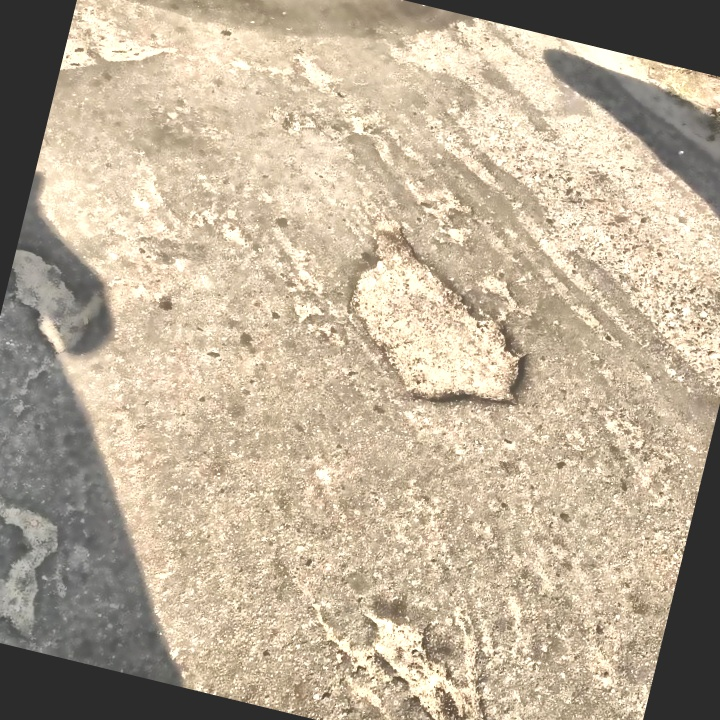pothole: (320, 207, 563, 428), (333, 603, 515, 720)
